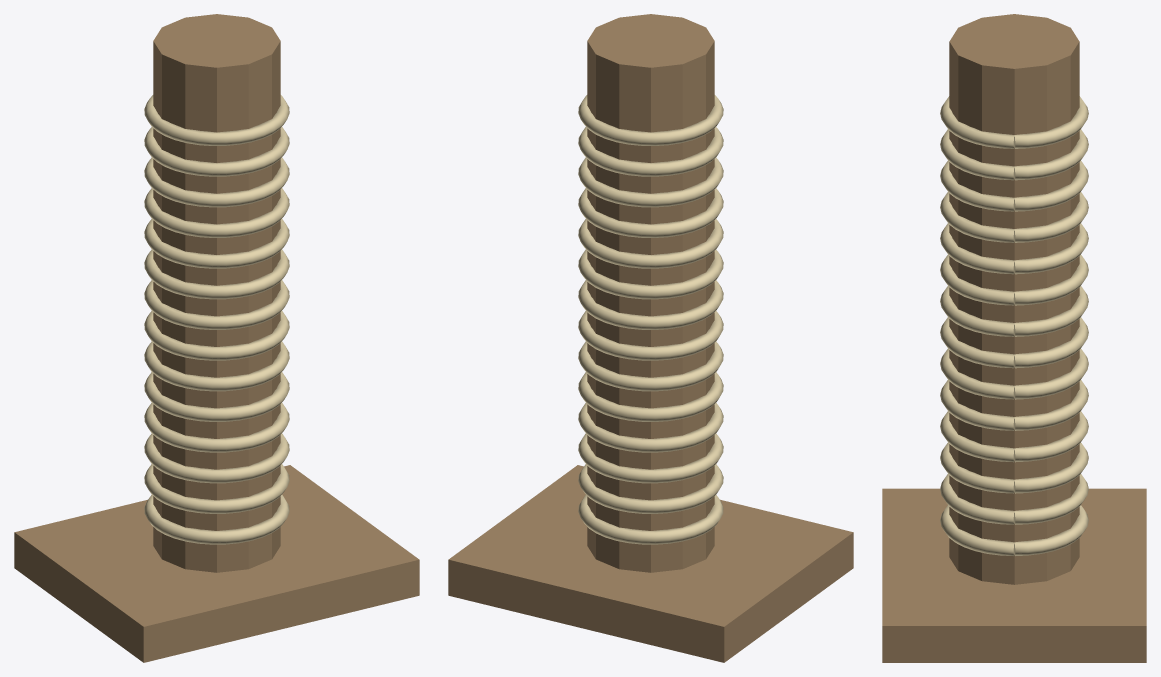
Rendered from zoo-and-safari-park-builder-scratching-post-9ef0712c__21472.glb.
3 views of the same model, side by side, from view 1: azimuth 30°, elevation 25°; view 2: azimuth 150°, elevation 25°; view 3: azimuth 270°, elevation 25° (orthographic). The views are drawn at different scales.
Visible parts, largest first — view 1: scratching-post; view 2: scratching-post; view 3: scratching-post.
Boxes of the visible parts, x1=… form: scratching-post: x1=14, y1=14, x2=419, y2=662; scratching-post: x1=448, y1=14, x2=853, y2=662; scratching-post: x1=882, y1=14, x2=1146, y2=662.
Bounding box in the file's own units: 0.8001 × 1.5 × 0.6499.
